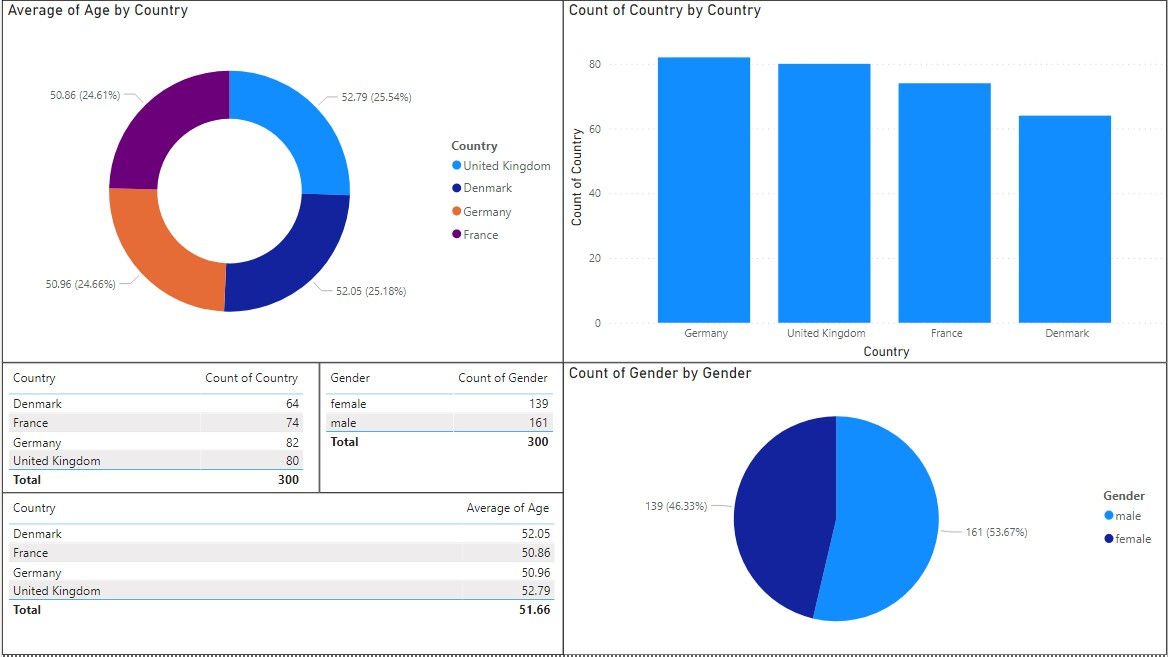

This screenshot's page, from the dashboard's own definition file:
{"tool":"powerbi","page":{"name":"Page 1","canvas":[1280,720],"ordinal":0},"visuals":[{"type":"tableEx","fields":{"Values":["flightright_data.Country","CountNonNull(flightright_data.Country)"]},"box":[0,398.3,348.8,142.8],"z":0},{"type":"tableEx","fields":{"Values":["flightright_data.Country","Avg(flightright_data.Age)"]},"box":[0,541.1,616.7,178.5],"z":1},{"type":"tableEx","fields":{"Values":["flightright_data.Gender","CountNonNull(flightright_data.Gender)"]},"box":[348.8,398.3,267.8,142.8],"z":2},{"type":"columnChart","fields":{"Category":["flightright_data.Country"],"Y":["CountNonNull(flightright_data.Country)"]},"box":[616.7,0,663.3,398.3],"z":3},{"type":"donutChart","fields":{"Category":["flightright_data.Country"],"Y":["Avg(flightright_data.Age)"]},"box":[0,0,616.7,398.3],"z":4},{"type":"pieChart","fields":{"Category":["flightright_data.Gender"],"Y":["CountNonNull(flightright_data.Gender)"]},"box":[616.7,398.3,663.3,321.4],"z":5}]}

Visuals, with their boxes in screenshot pixels (x1, y1, x2, y2), scaled from the page's 1280x720 canvas onto the 1168x657 screenshot:
tableEx - flightright_data.Country x CountNonNull(flightright_data.Country): box(0, 363, 318, 494)
tableEx - flightright_data.Country x Avg(flightright_data.Age): box(0, 494, 563, 656)
tableEx - flightright_data.Gender x CountNonNull(flightright_data.Gender): box(318, 363, 563, 494)
columnChart - flightright_data.Country x CountNonNull(flightright_data.Country): box(563, 0, 1167, 363)
donutChart - flightright_data.Country x Avg(flightright_data.Age): box(0, 0, 563, 363)
pieChart - flightright_data.Gender x CountNonNull(flightright_data.Gender): box(563, 363, 1167, 656)
